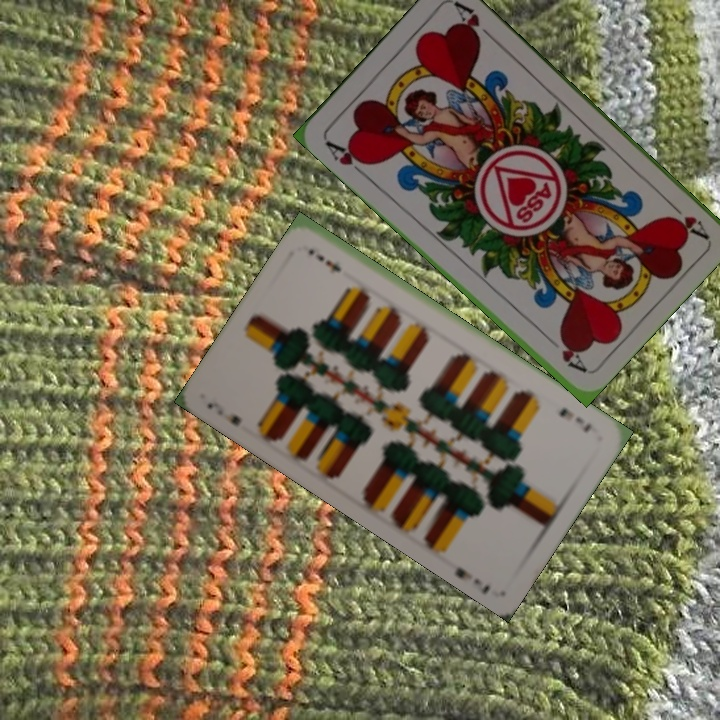E7: (202, 398, 244, 429), (555, 404, 595, 436)
HA: (661, 195, 710, 241), (322, 136, 372, 180)
